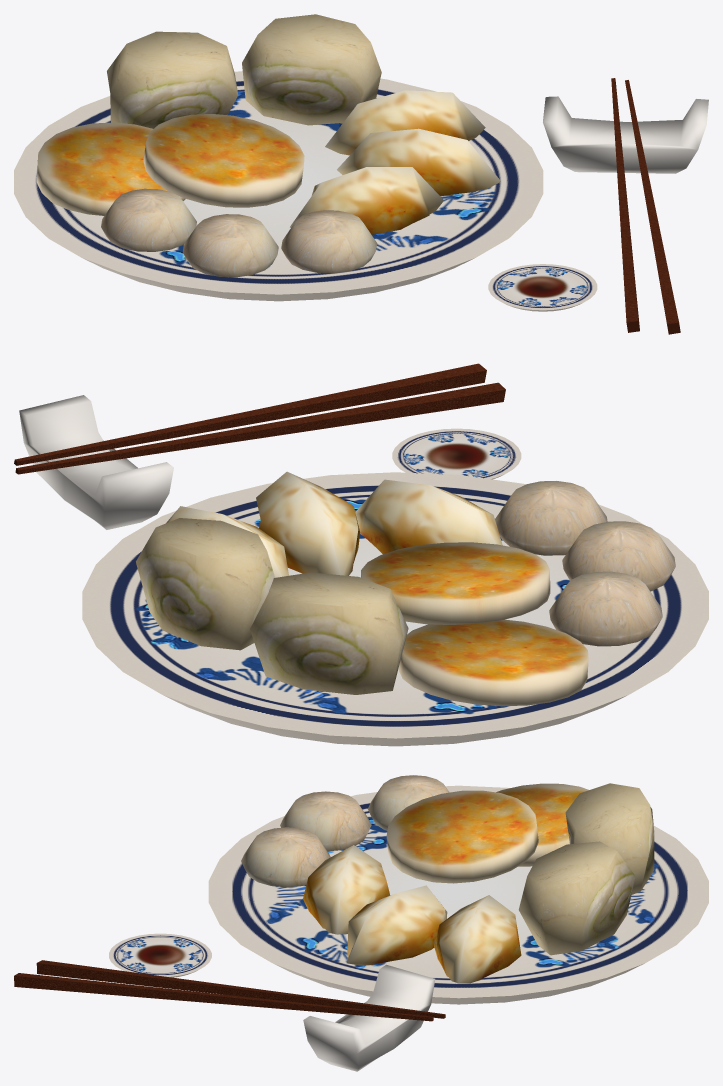
File: Dimsum.FBX
3 views of the same model, one above another, from view 1: azimuth 30°, elevation 25°; view 2: azimuth 150°, elevation 25°; view 3: azimuth 270°, elevation 25° (orthographic). The views are drawn at different scales.
Visible parts, largest first — view 1: plate, twistedroll, pie001, twistedroll001, pie, chopstickstand, panfrieddumpling003, panfrieddumpling004, panfrieddumpling, stuffedbun002, stuffedbun, stuffedbun001 (+3 smaller); view 2: plate, twistedroll001, twistedroll, pie, pie001, chopstickstand, panfrieddumpling003, panfrieddumpling004, chopsticks, chopsticks001, stuffedbun001, stuffedbun002 (+3 smaller); view 3: plate, pie001, twistedroll, chopstickstand, twistedroll001, panfrieddumpling003, panfrieddumpling, panfrieddumpling004, chopsticks001, chopsticks, stuffedbun002, stuffedbun (+3 smaller).
Part boxes in pixels (<box>): plate: <box>14,71,543,301</box>; twistedroll: <box>242,14,381,125</box>; pie001: <box>143,114,304,207</box>; twistedroll001: <box>107,31,238,128</box>; pie: <box>36,122,185,215</box>; chopstickstand: <box>543,96,708,173</box>; panfrieddumpling003: <box>337,128,500,196</box>; panfrieddumpling004: <box>290,167,443,234</box>; panfrieddumpling: <box>325,90,485,155</box>; stuffedbun002: <box>281,210,377,273</box>; stuffedbun: <box>182,214,278,277</box>; stuffedbun001: <box>101,188,196,251</box>; plate: <box>82,472,708,746</box>; twistedroll001: <box>250,572,408,694</box>; twistedroll: <box>136,518,274,650</box>; pie: <box>398,619,588,706</box>; pie001: <box>361,542,550,624</box>; chopstickstand: <box>19,395,173,529</box>; panfrieddumpling003: <box>256,471,360,575</box>; panfrieddumpling004: <box>355,479,502,554</box>; chopsticks: <box>15,382,505,474</box>; chopsticks001: <box>14,363,486,465</box>; stuffedbun001: <box>549,571,662,646</box>; stuffedbun002: <box>495,481,607,555</box>; plate: <box>208,785,708,1004</box>; pie001: <box>386,790,538,883</box>; twistedroll: <box>518,841,635,955</box>; chopstickstand: <box>303,964,435,1071</box>; twistedroll001: <box>565,783,654,894</box>; panfrieddumpling003: <box>346,885,447,965</box>; panfrieddumpling: <box>434,895,521,983</box>; panfrieddumpling004: <box>303,845,390,934</box>; chopsticks001: <box>14,973,433,1021</box>; chopsticks: <box>36,960,445,1018</box>; stuffedbun002: <box>241,827,330,887</box>; stuffedbun: <box>280,791,371,851</box>.
Size of the model in its own units: 574 by 605 by 94.95.
